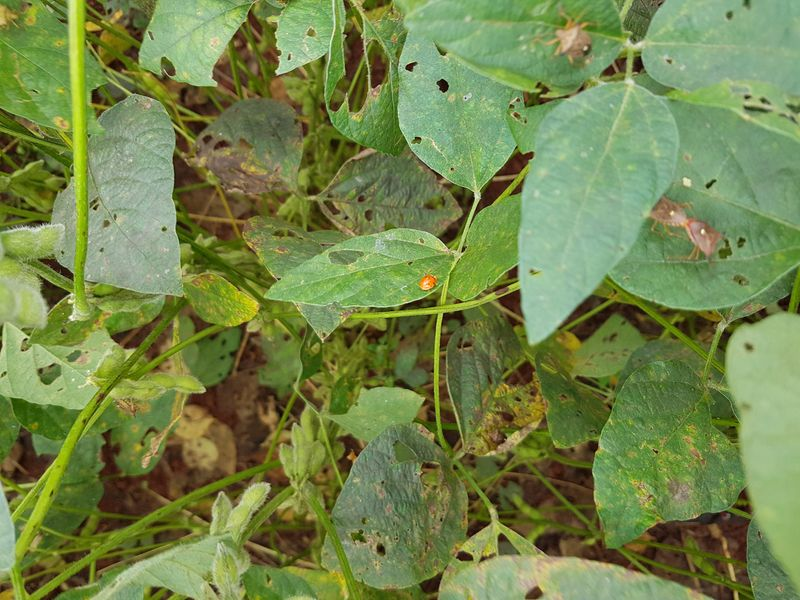Coccinellidae: (411, 271, 443, 299)
Euschistus_heros_adulto: (528, 4, 612, 74), (622, 184, 686, 258), (684, 209, 734, 271)
